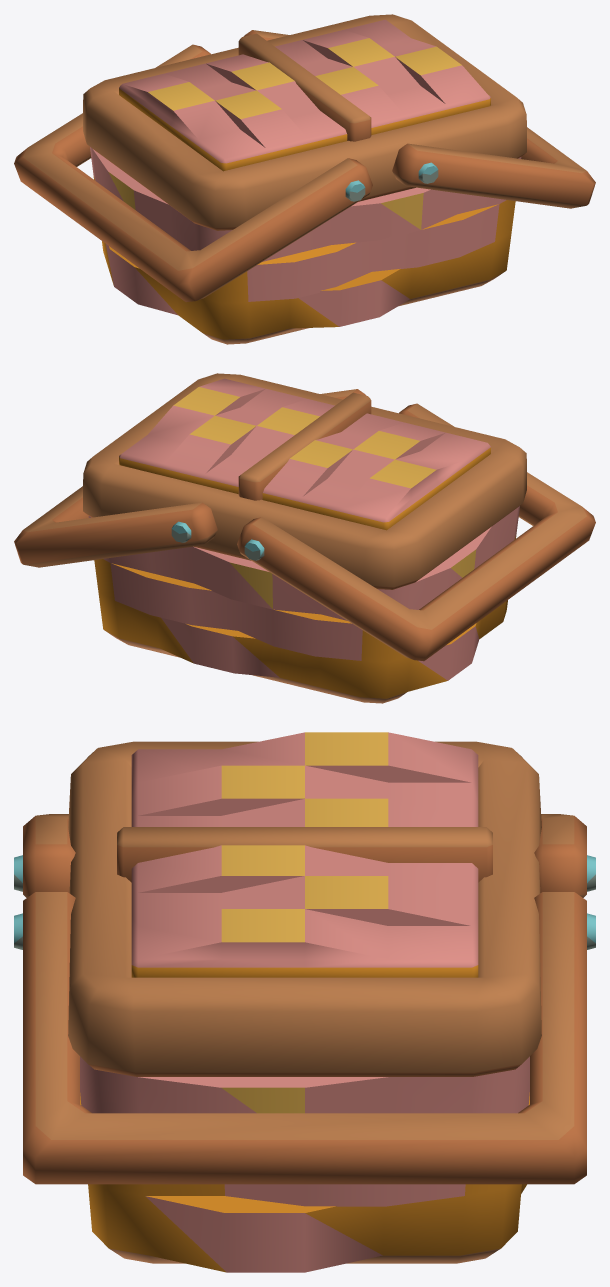
The model's file is itch_tiny_pleasant_picnic_picnic_basket_square.glb.
The picture shows the model from 3 angles, top to bottom: view 1: azimuth 30°, elevation 25°; view 2: azimuth 150°, elevation 25°; view 3: azimuth 270°, elevation 25°; orthographic projection. The views are drawn at different scales.
Parts seen in each view (by area): view 1: picnic_basket_square, picnic_basket_handle_left, picnic_basket_lid_left, picnic_basket_lid_right, picnic_basket_handle_right; view 2: picnic_basket_square, picnic_basket_handle_left, picnic_basket_lid_left, picnic_basket_lid_right, picnic_basket_handle_right; view 3: picnic_basket_square, picnic_basket_handle_right, picnic_basket_lid_right, picnic_basket_lid_left, picnic_basket_handle_left.
Boxes of the visible parts, bbox=[...] form: picnic_basket_square: bbox=[83, 14, 526, 344]; picnic_basket_handle_left: bbox=[14, 44, 372, 302]; picnic_basket_lid_left: bbox=[119, 54, 347, 171]; picnic_basket_lid_right: bbox=[275, 19, 490, 134]; picnic_basket_handle_right: bbox=[243, 30, 595, 208]; picnic_basket_square: bbox=[83, 373, 526, 703]; picnic_basket_handle_left: bbox=[237, 403, 595, 661]; picnic_basket_lid_left: bbox=[262, 413, 490, 530]; picnic_basket_lid_right: bbox=[119, 378, 334, 493]; picnic_basket_handle_right: bbox=[14, 389, 366, 567]; picnic_basket_square: bbox=[68, 741, 541, 1272]; picnic_basket_handle_right: bbox=[14, 892, 595, 1184]; picnic_basket_lid_right: bbox=[131, 845, 478, 977]; picnic_basket_lid_left: bbox=[131, 732, 478, 826]; picnic_basket_handle_left: bbox=[14, 814, 595, 897].
Size of the model in its own units: 0.96 by 0.4301 by 0.7103.
